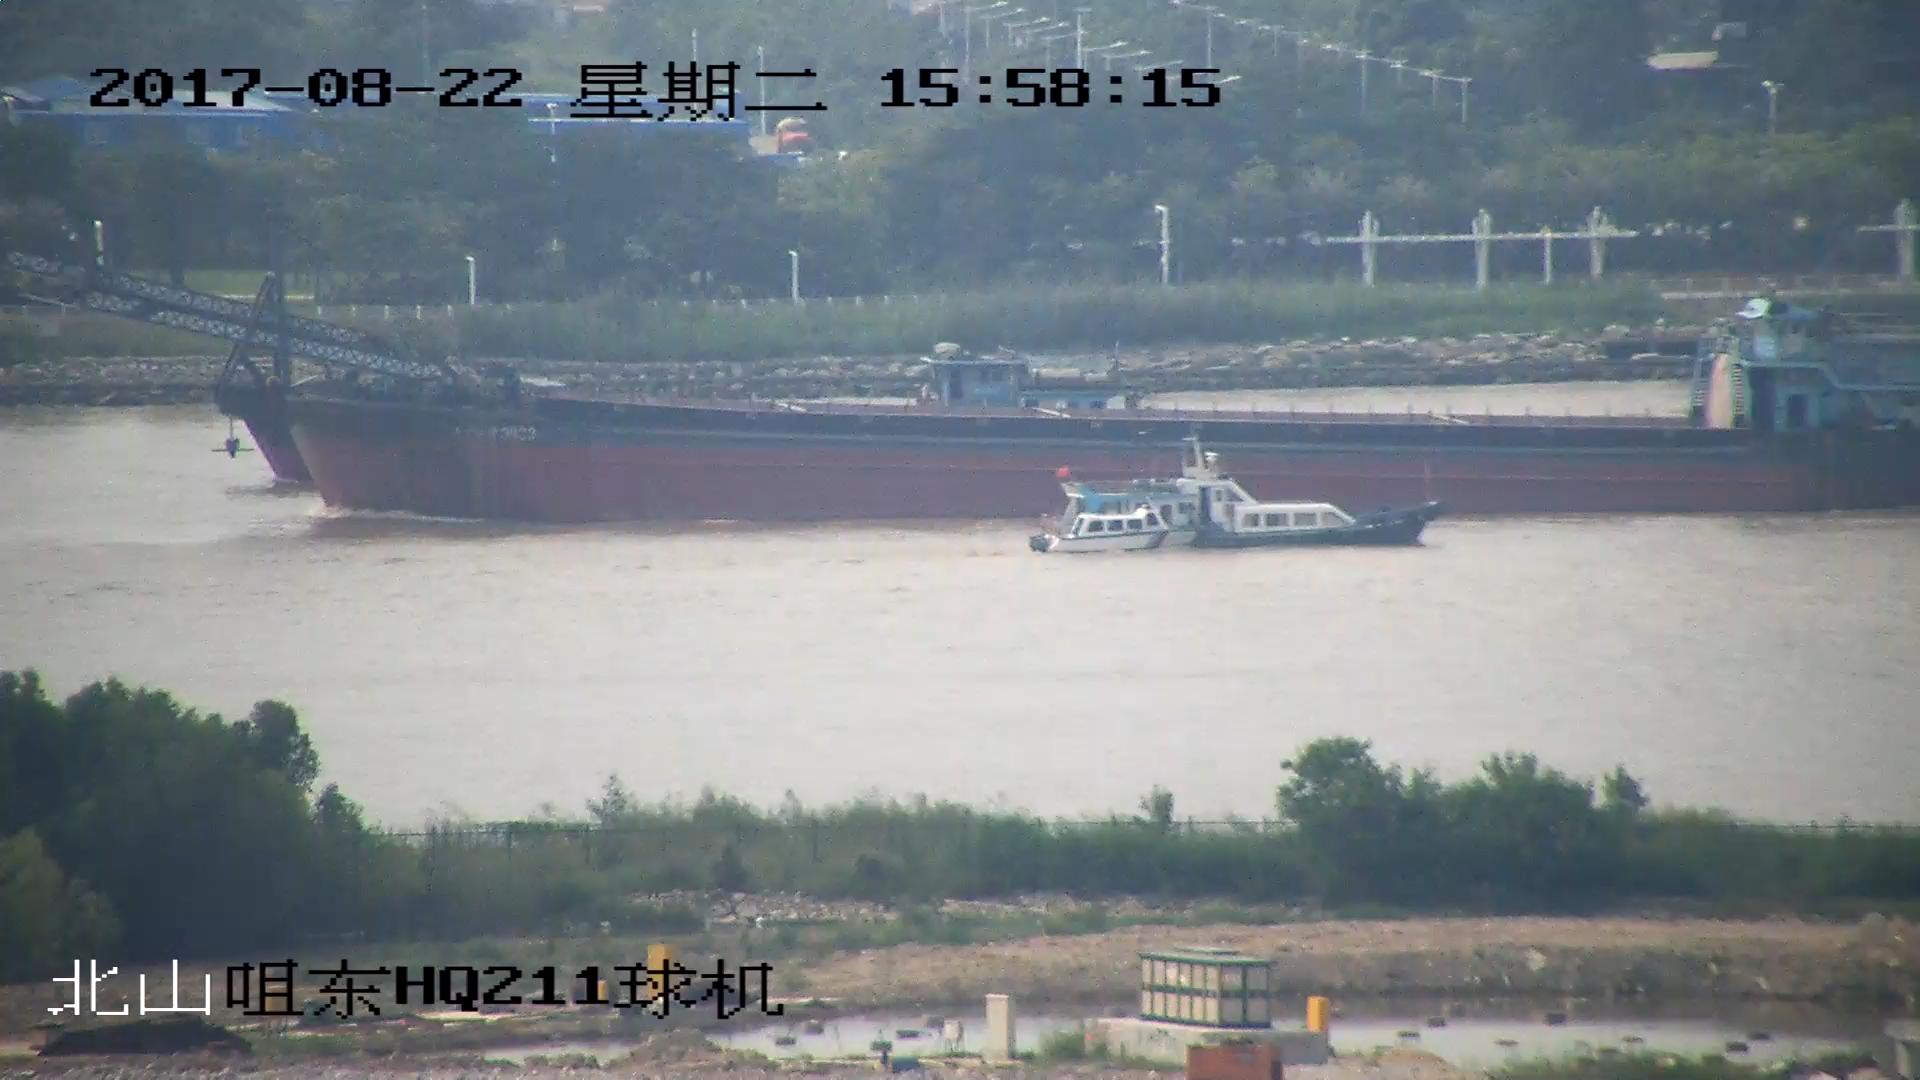bulk cargo carrier: (1, 248, 1920, 525)
fishing boat: (1033, 439, 1433, 554)
